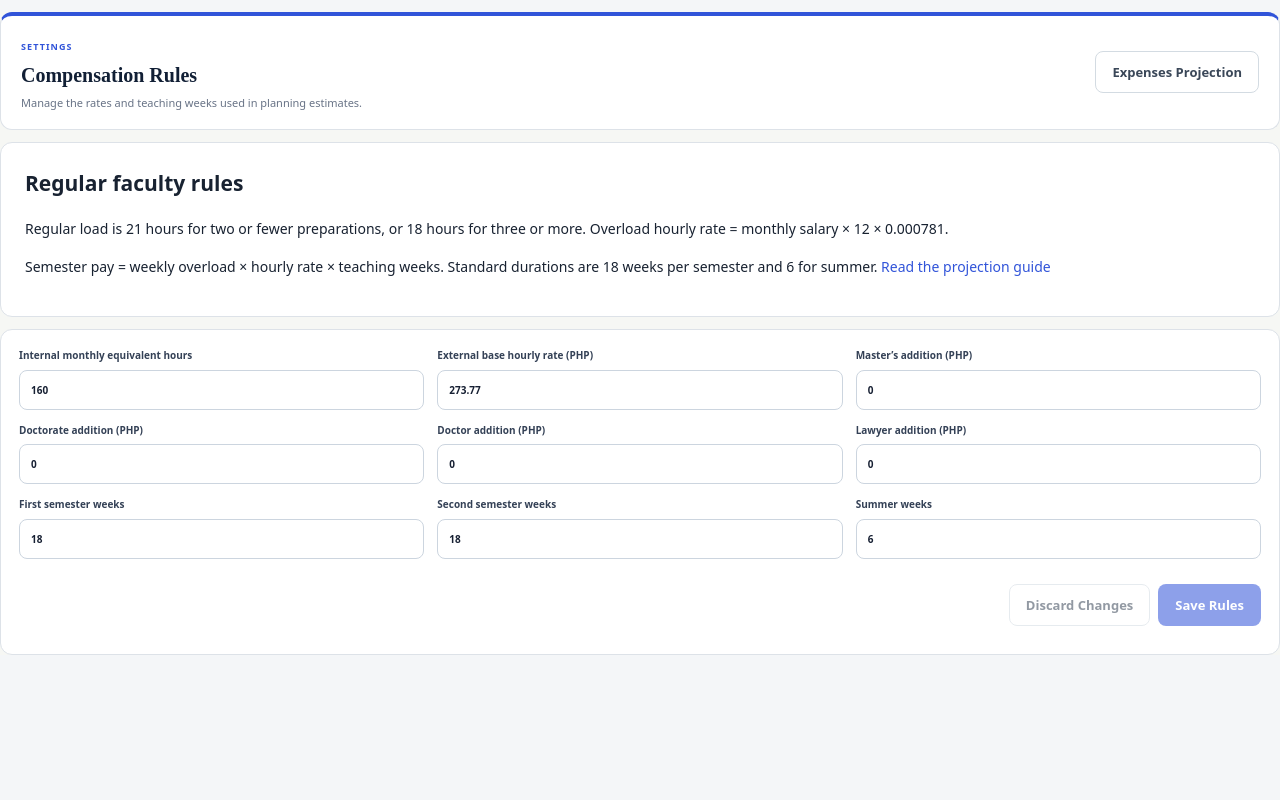
Test: load recovery › a save failure preserves edited compensation inputs
Replace the text in the number field labelled "First semester weeks" with "19" at [222, 539], box [19,519,424,559]
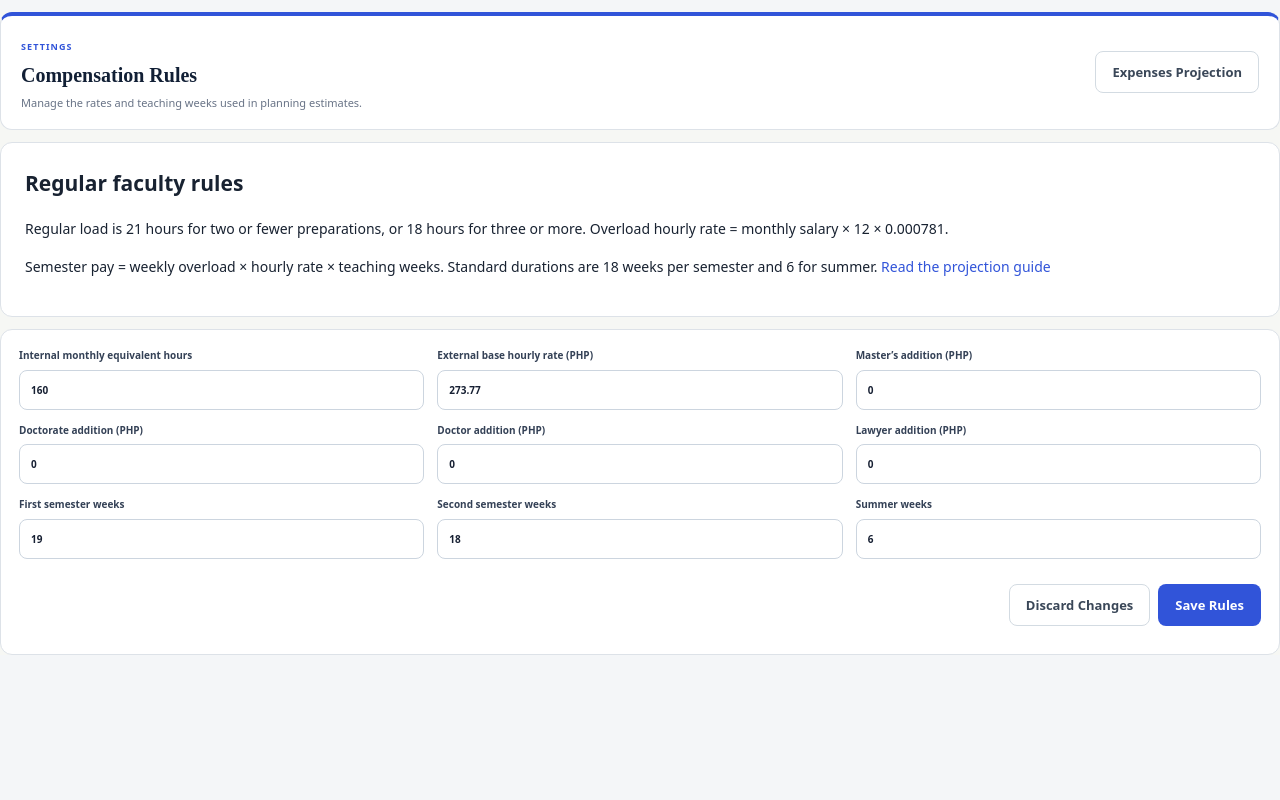
Click the button "Save Rules" at [1210, 605], box [1158,584,1261,626]
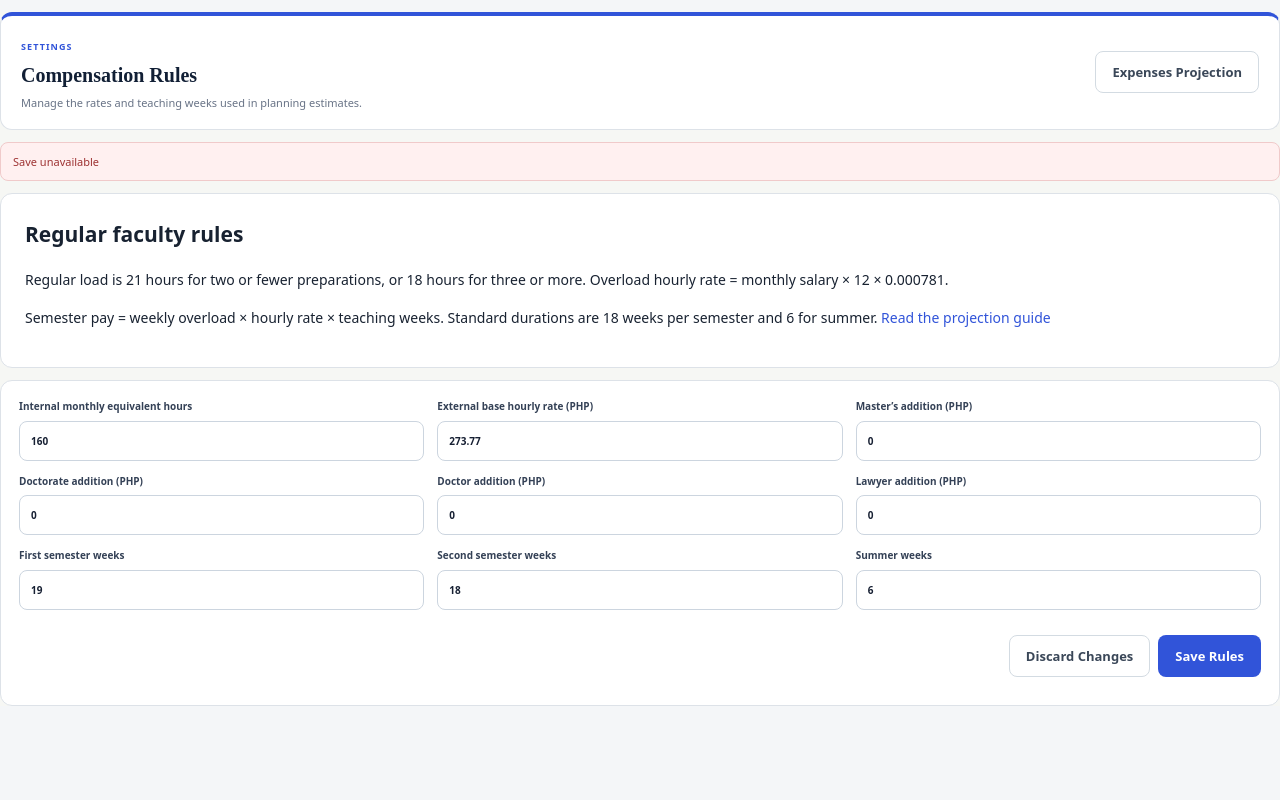
Result: the message reads "Save unavailable" at [13,154,99,169]
